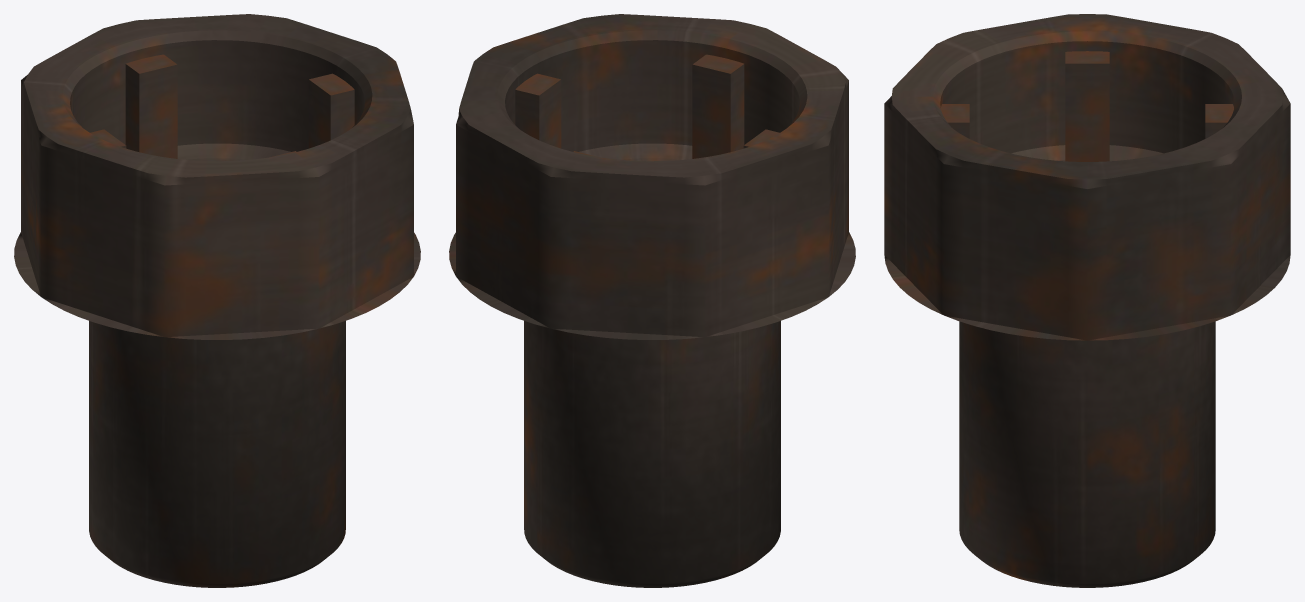
The model's file is SM_CasseBit_6po.glb.
3 views of the same model, side by side, from view 1: azimuth 30°, elevation 25°; view 2: azimuth 150°, elevation 25°; view 3: azimuth 270°, elevation 25° (orthographic).
Visible parts, largest first — view 1: CasseBit_6po, CasseBit_6po_Ergots; view 2: CasseBit_6po, CasseBit_6po_Ergots; view 3: CasseBit_6po, CasseBit_6po_Ergots.
Part boxes in pixels (left/top/right/bottom): CasseBit_6po: left=14, top=14, right=420, bottom=587; CasseBit_6po_Ergots: left=90, top=54, right=354, bottom=158; CasseBit_6po: left=449, top=14, right=855, bottom=587; CasseBit_6po_Ergots: left=515, top=54, right=779, bottom=158; CasseBit_6po: left=884, top=14, right=1290, bottom=587; CasseBit_6po_Ergots: left=941, top=51, right=1233, bottom=161.
Size of the model in its own units: 0.2212 by 0.265 by 0.2212.
Materials: 2 (2 with a texture image).
